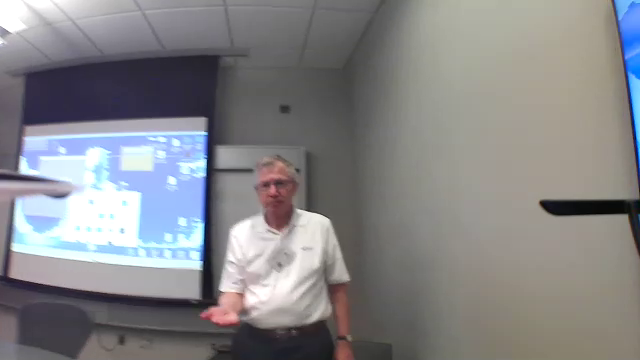land: (194, 297, 243, 329)
